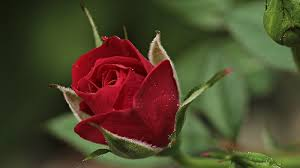rose: (65, 31, 192, 153)
